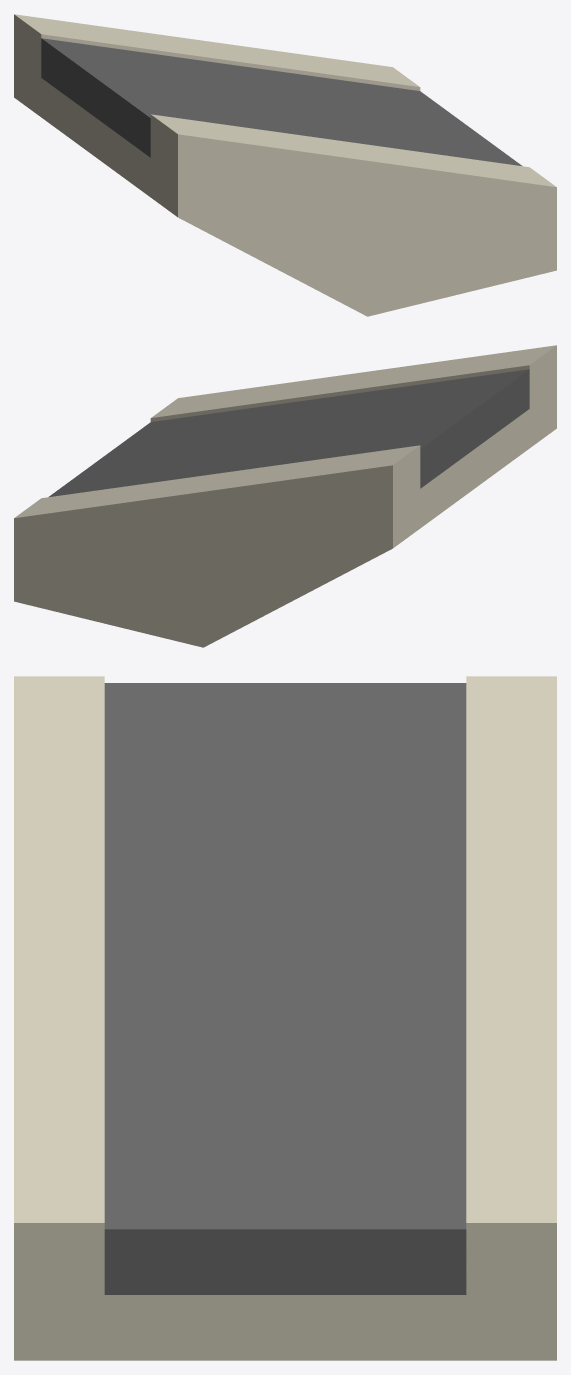
Rendered from tile141.dae.
The picture shows the model from 3 angles, top to bottom: view 1: azimuth 30°, elevation 25°; view 2: azimuth 150°, elevation 25°; view 3: azimuth 270°, elevation 25°; orthographic projection. The views are drawn at different scales.
Visible parts, largest first — view 1: tile141; view 2: tile141; view 3: tile141.
Part boxes in pixels (x1,y1,x2,y2): tile141: [14, 14, 556, 316]; tile141: [14, 345, 556, 647]; tile141: [14, 676, 556, 1360].
Size of the model in its own units: 1 by 0.5767 by 0.75.
